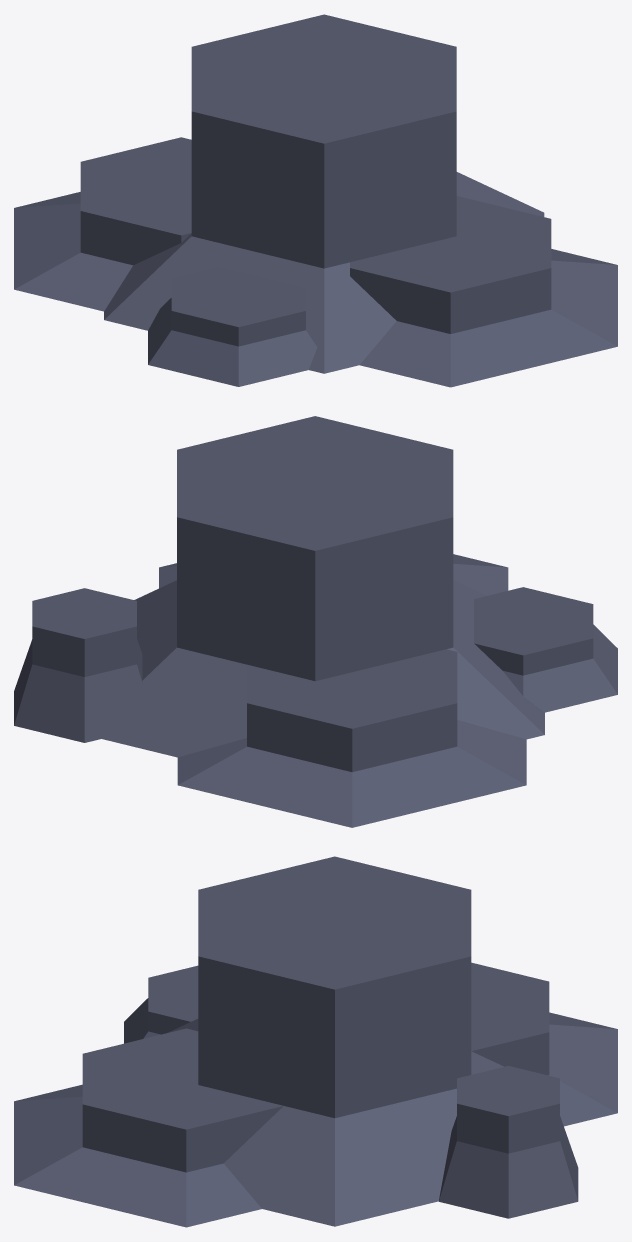
Rendered from rock.glb.
3 renders of one model, top to bottom at view 1: azimuth 30°, elevation 25°; view 2: azimuth 150°, elevation 25°; view 3: azimuth 270°, elevation 25°, orthographic. The views are drawn at different scales.
Parts seen in each view (by area): view 1: rock; view 2: rock; view 3: rock.
Boxes of the visible parts, x1,y1,x2,y2 form: rock: (14, 14, 617, 387); rock: (14, 416, 617, 827); rock: (14, 856, 617, 1227).
Bounding box in the file's own units: 0.8015 × 0.3 × 0.8509.
